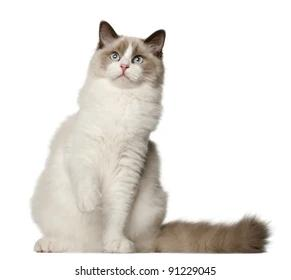ragdoll: (88, 12, 173, 101)
